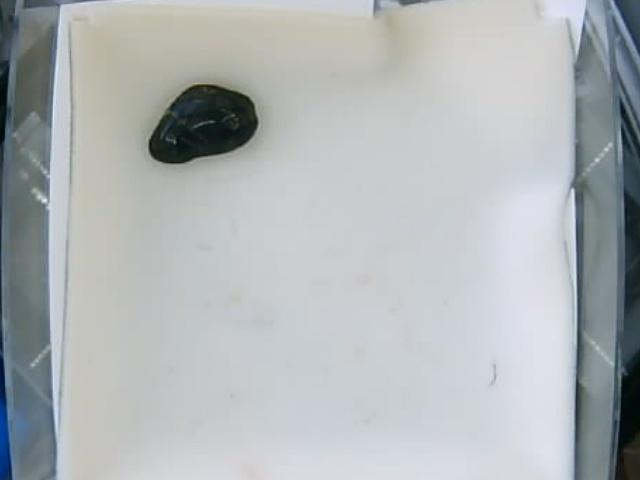Pebble: (148, 83, 260, 166)
